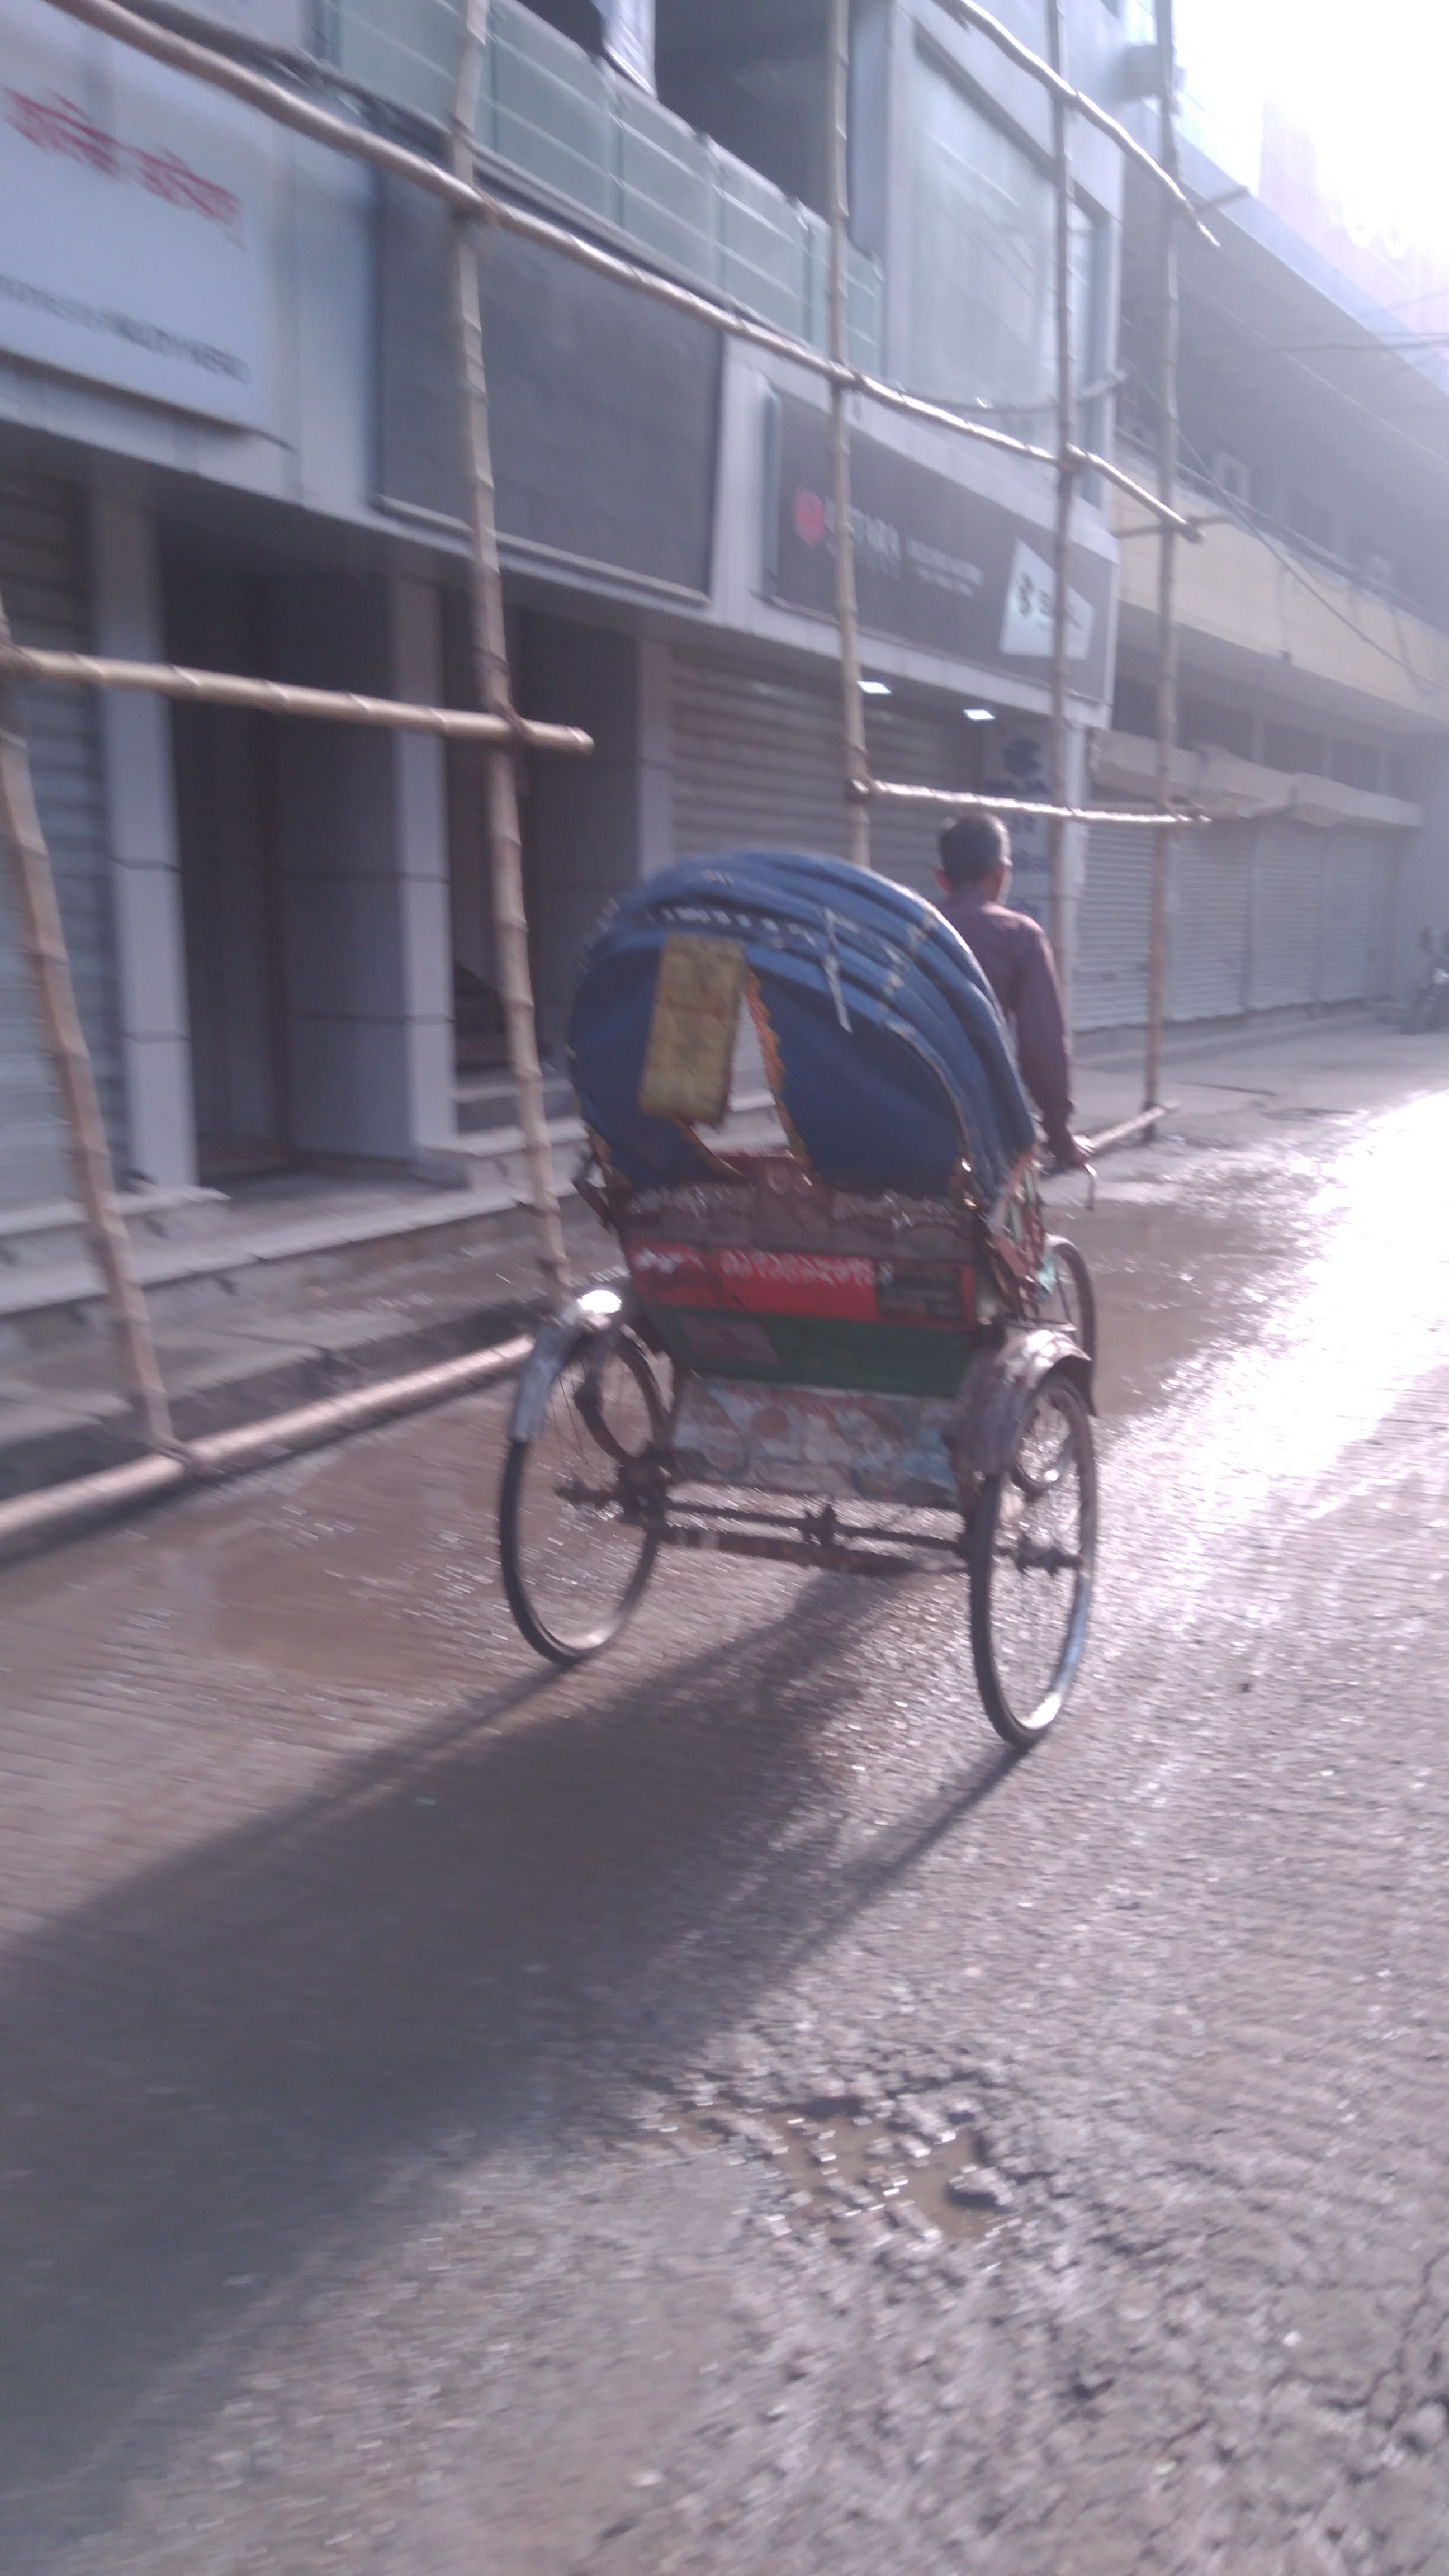Rickshaw: (474, 729, 1154, 1721)
